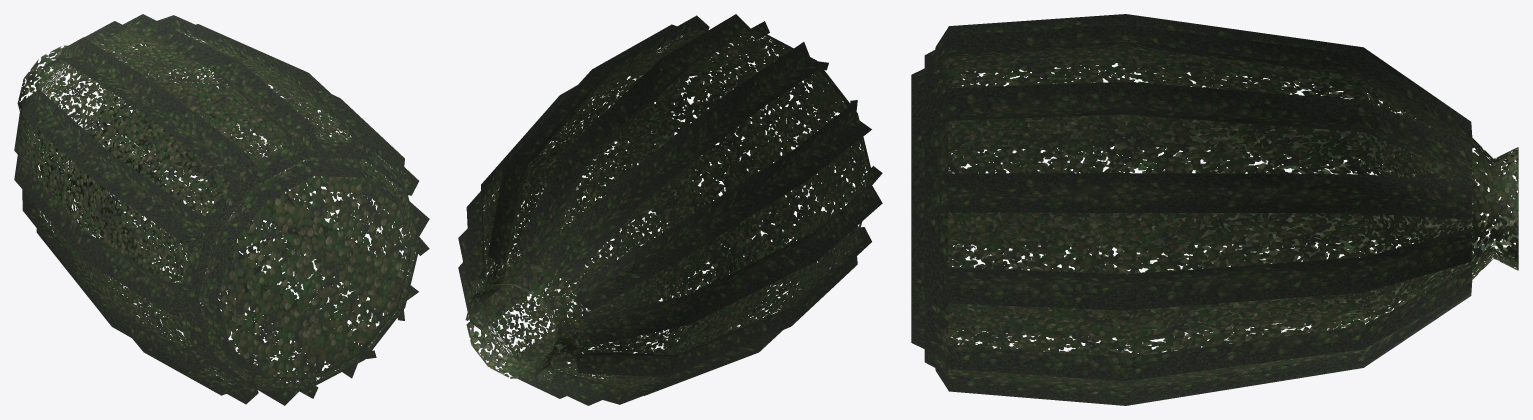
The model's file is nt_2020_foliage_hedge_rounded02_LOD1.obj.
The picture shows the model from 3 angles, left to right: view 1: azimuth 30°, elevation 25°; view 2: azimuth 150°, elevation 25°; view 3: azimuth 270°, elevation 25°; orthographic projection. The views are drawn at different scales.
Visible parts, largest first — view 1: mtl_p6_foliage_hedge2, mtl_p6_foliage_hedge_edge; view 2: mtl_p6_foliage_hedge_edge, mtl_p6_foliage_hedge2; view 3: mtl_p6_foliage_hedge_edge, mtl_p6_foliage_hedge2.
Part boxes in pixels (box(x1,y1,x2,y2)): mtl_p6_foliage_hedge2: box(17, 28, 416, 388); mtl_p6_foliage_hedge_edge: box(14, 14, 429, 405); mtl_p6_foliage_hedge_edge: box(458, 14, 882, 405); mtl_p6_foliage_hedge2: box(465, 29, 871, 389); mtl_p6_foliage_hedge_edge: box(911, 14, 1472, 405); mtl_p6_foliage_hedge2: box(948, 46, 1518, 389).
Size of the model in its own units: 126 by 126 by 197.
